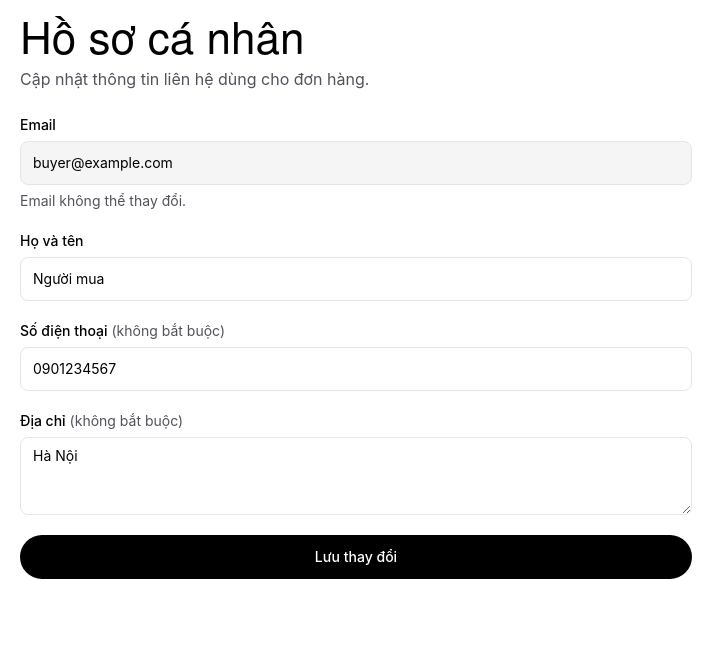
ProfilePage › sends only fullName, phone and address on PATCH
Replace the text in the field labelled "Họ và tên" with "Tên mới" at (356, 279), box [20, 257, 692, 301]
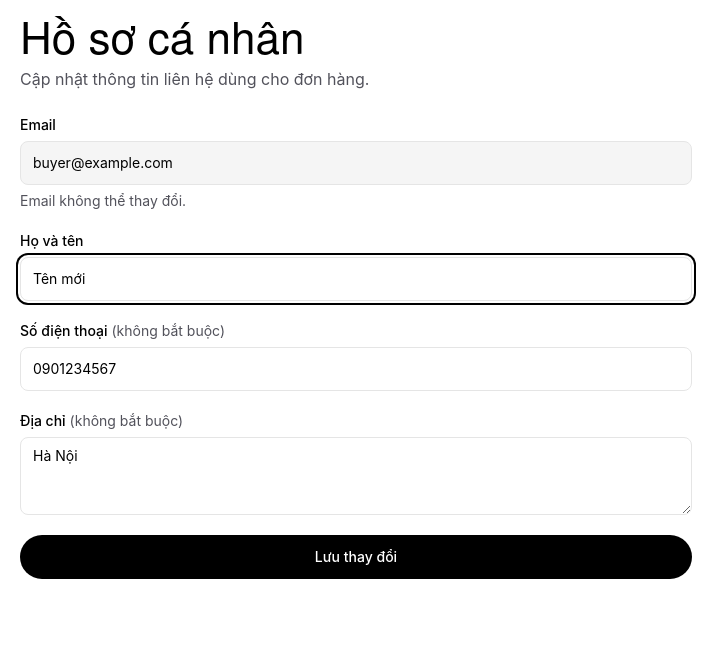
Click the button "Lưu thay đổi".
click(356, 557)  # box [20, 535, 692, 579]
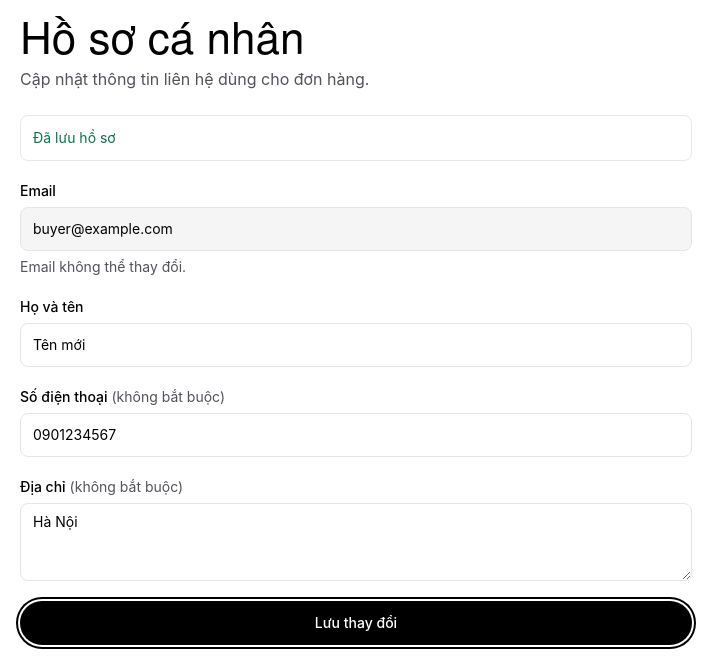
Now the text "Đã lưu hồ sơ" is shown, box [20, 115, 692, 161]
